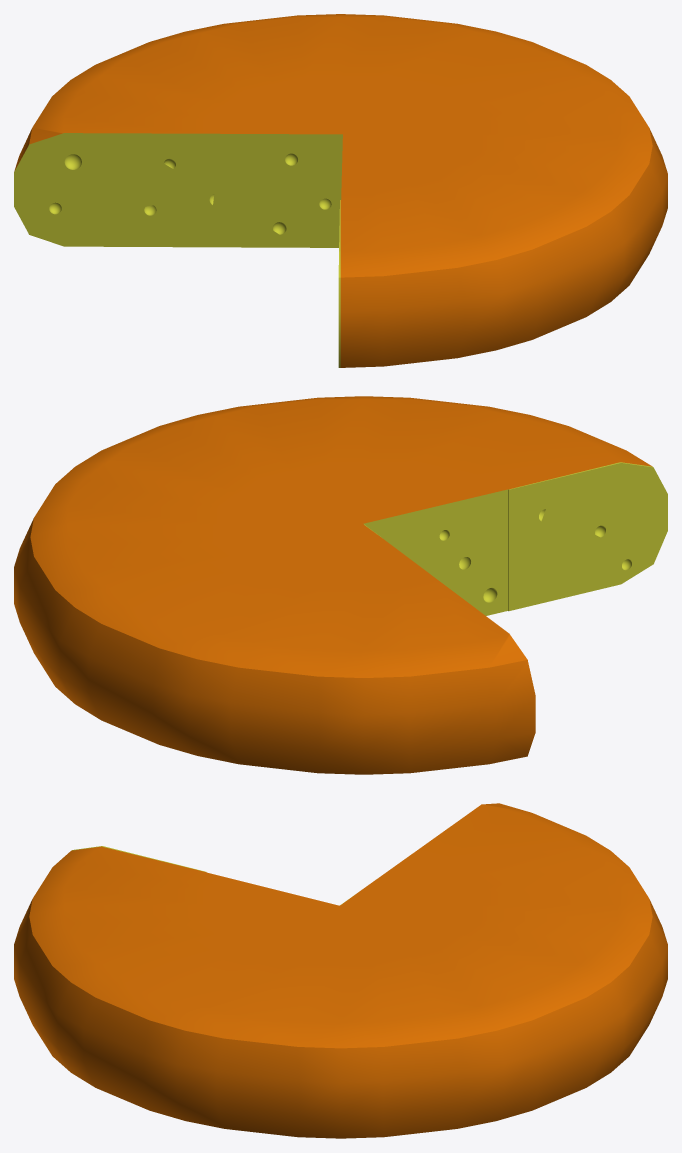
File: Käse2.fbx
3 views of the same model, one above another, from view 1: azimuth 30°, elevation 25°; view 2: azimuth 150°, elevation 25°; view 3: azimuth 270°, elevation 25° (orthographic). The views are drawn at different scales.
Visible parts, largest first — view 1: pCylinder19; view 2: pCylinder19; view 3: pCylinder19.
Boxes of the visible parts, <box> form: pCylinder19: <box>14,14,667,367</box>; pCylinder19: <box>14,396,667,774</box>; pCylinder19: <box>14,803,667,1138</box>.
Size of the model in its own units: 1.83 by 0.3763 by 1.97.
